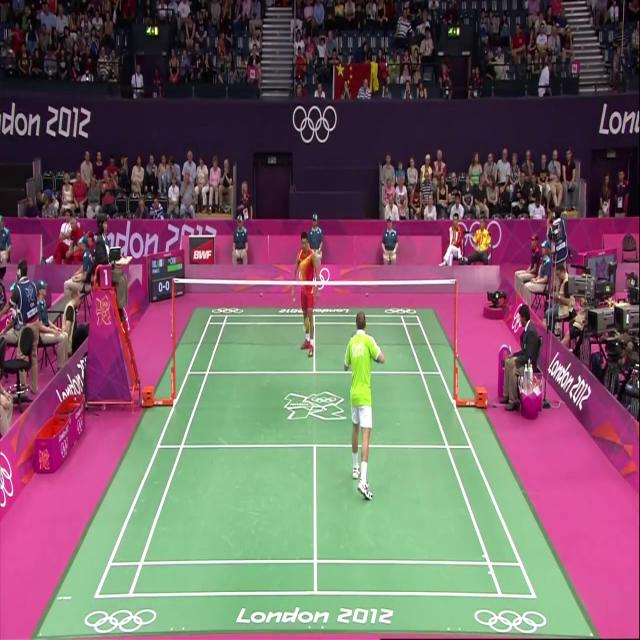Net: (171, 278, 460, 365)
Player1: (346, 288, 386, 510)
Player2: (285, 219, 323, 358)
Shuttlecock: (288, 290, 298, 304)
